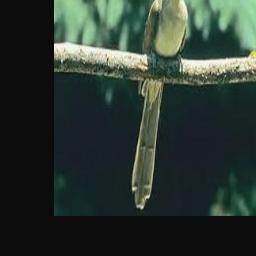Cuckoo: (132, 0, 189, 209)
